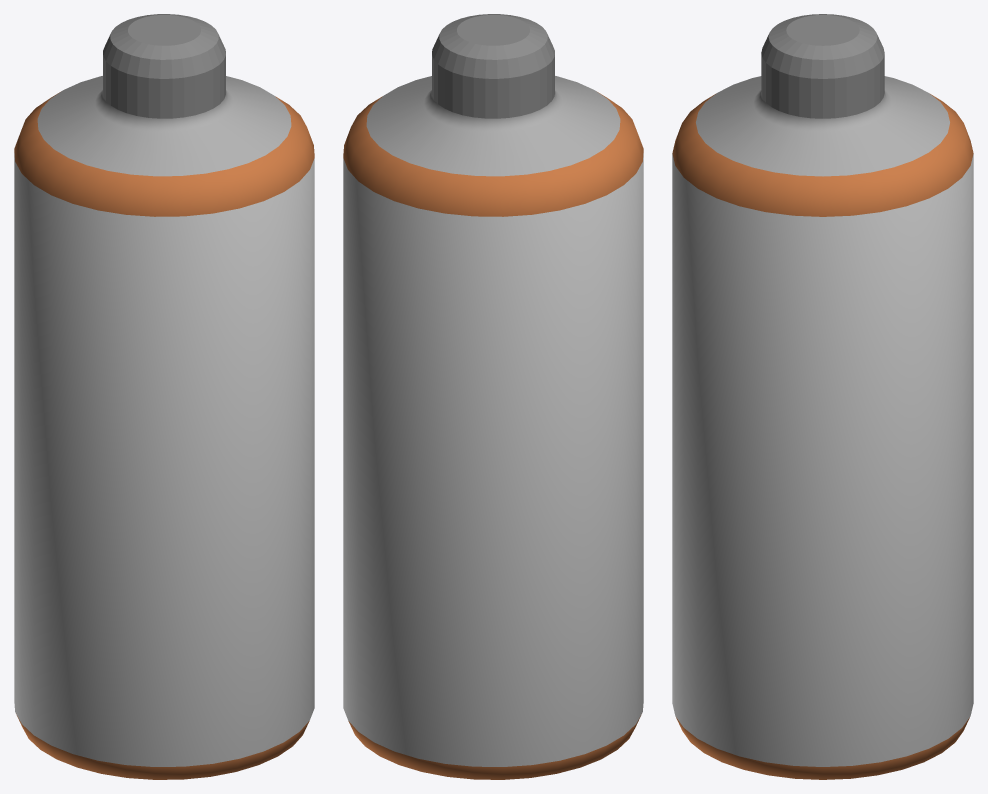
3 views of the same model, side by side, from view 1: azimuth 30°, elevation 25°; view 2: azimuth 150°, elevation 25°; view 3: azimuth 270°, elevation 25° (orthographic).
Parts seen in each view (by area): view 1: Capsule; view 2: Capsule; view 3: Capsule.
Boxes of the visible parts, x1=… form: Capsule: x1=14, y1=14, x2=314, y2=779; Capsule: x1=343, y1=14, x2=643, y2=779; Capsule: x1=672, y1=14, x2=973, y2=779.
Bounding box in the file's own units: 2.83 × 7.2 × 2.83.
